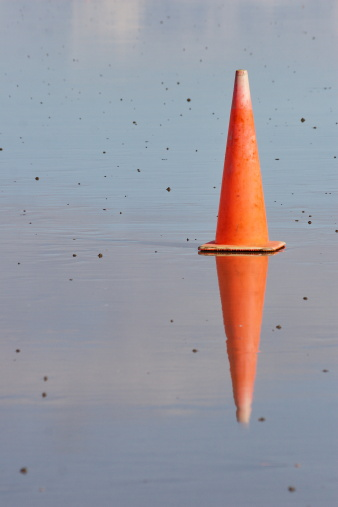trafficcone: (197, 69, 286, 252)
